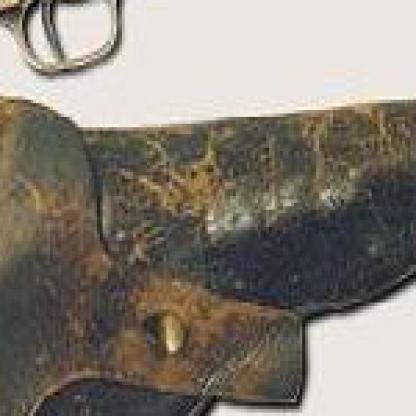gun: (0, 0, 413, 237)
